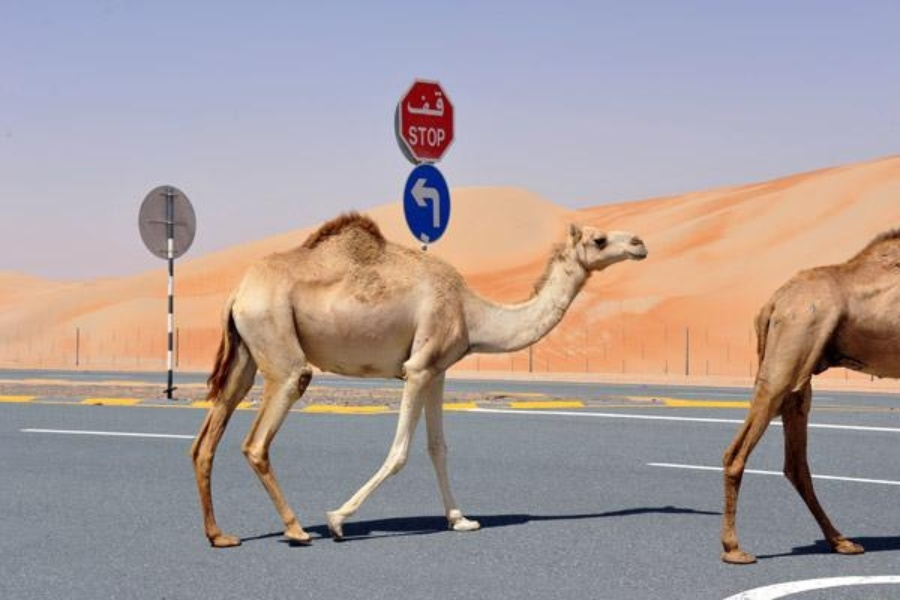text: (417, 92, 432, 118), (417, 123, 432, 148), (433, 92, 446, 118), (433, 123, 446, 148), (407, 92, 416, 118), (409, 123, 416, 148)
